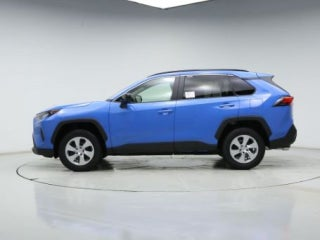Toyota RAV-4: (31, 68, 298, 172)
